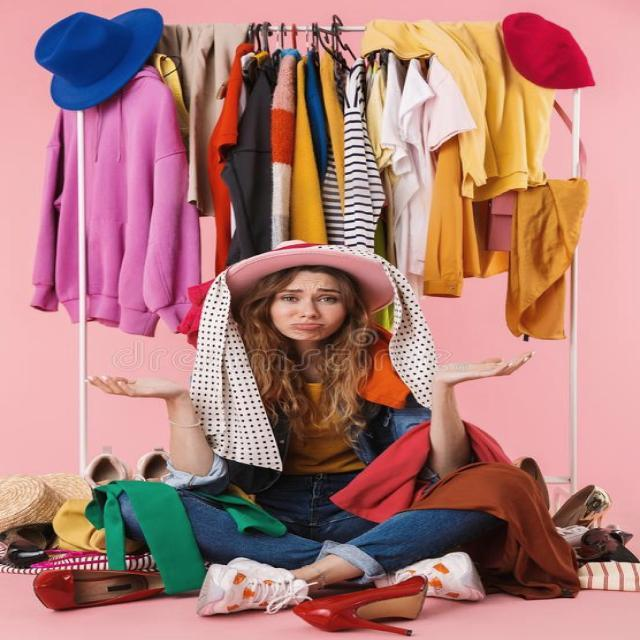clothes: (50, 23, 588, 252)
